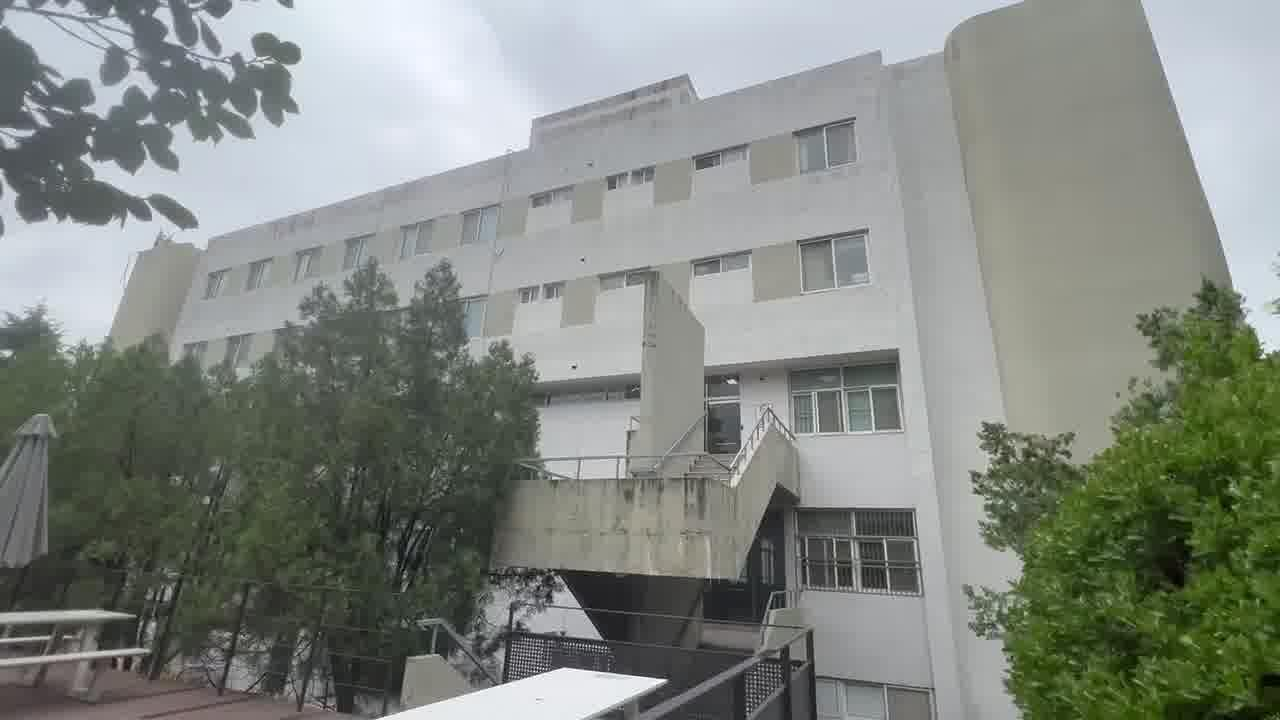building: (548, 88, 979, 614)
